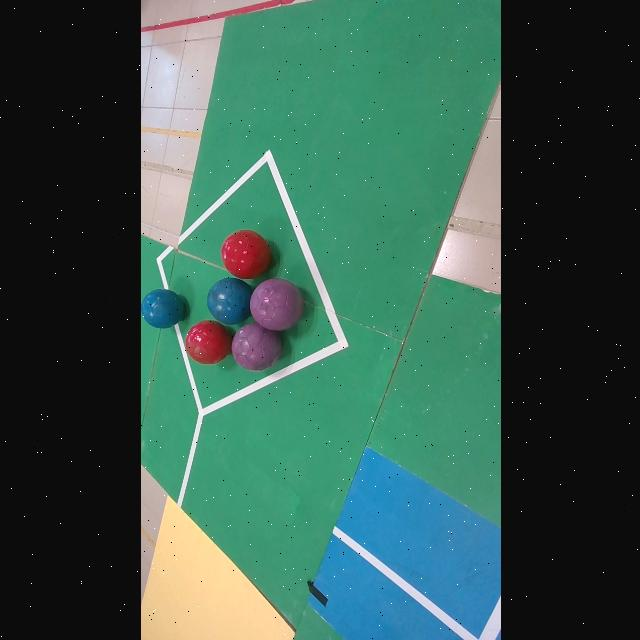B: (206, 277, 251, 325), (140, 290, 185, 329)
P: (249, 278, 303, 331), (230, 322, 281, 371)
R: (220, 229, 270, 279), (184, 320, 231, 365)
